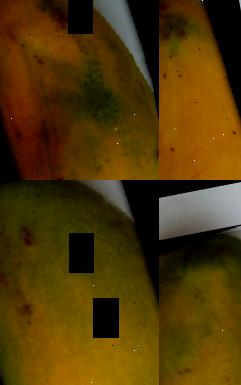PartiallyRipe: (0, 180, 159, 385), (159, 221, 241, 385)
Ripe: (0, 0, 159, 180), (159, 0, 241, 180)
